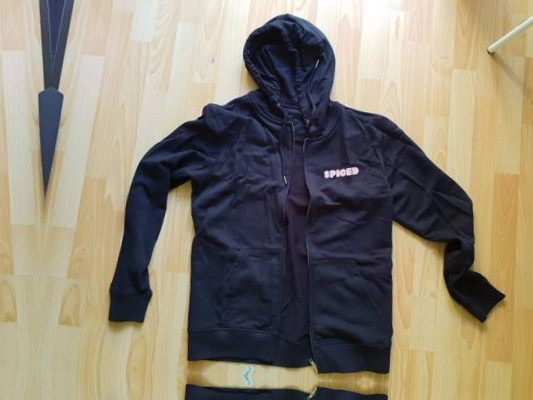Hoodie: (89, 3, 533, 377), (67, 383, 512, 400), (0, 0, 2, 345)
